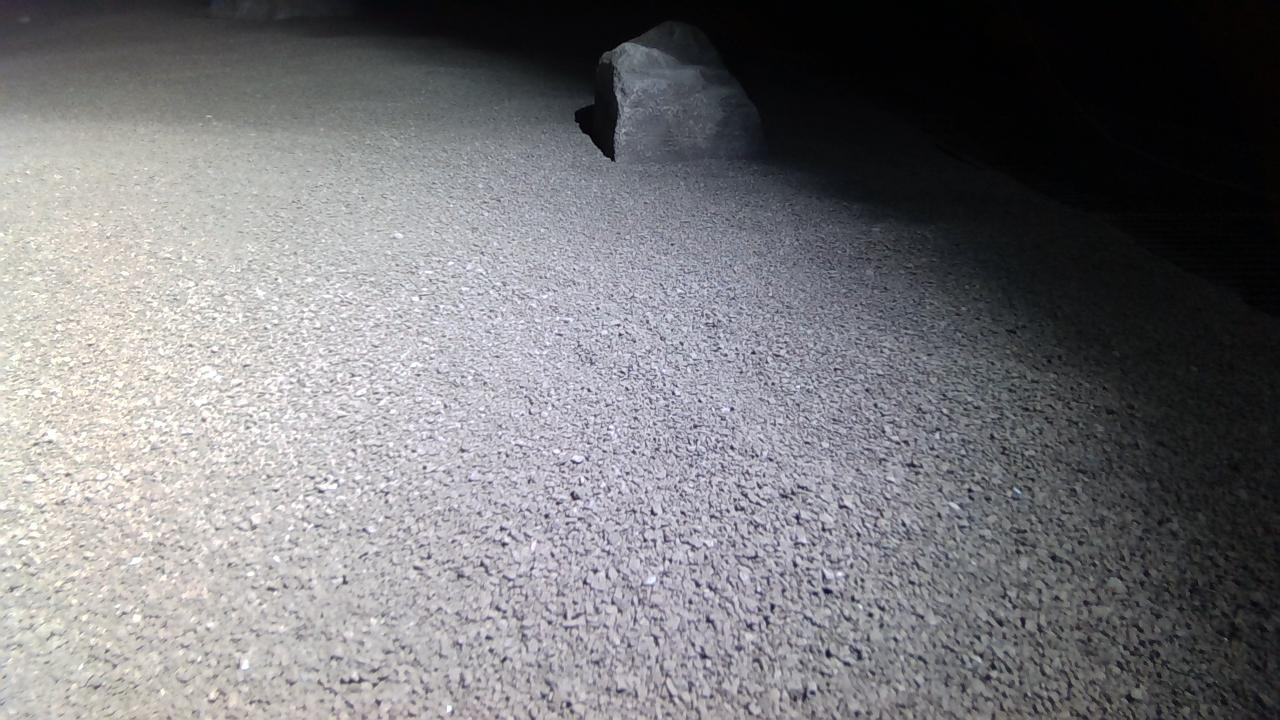rock: (594, 20, 765, 161), (210, 0, 355, 19)
